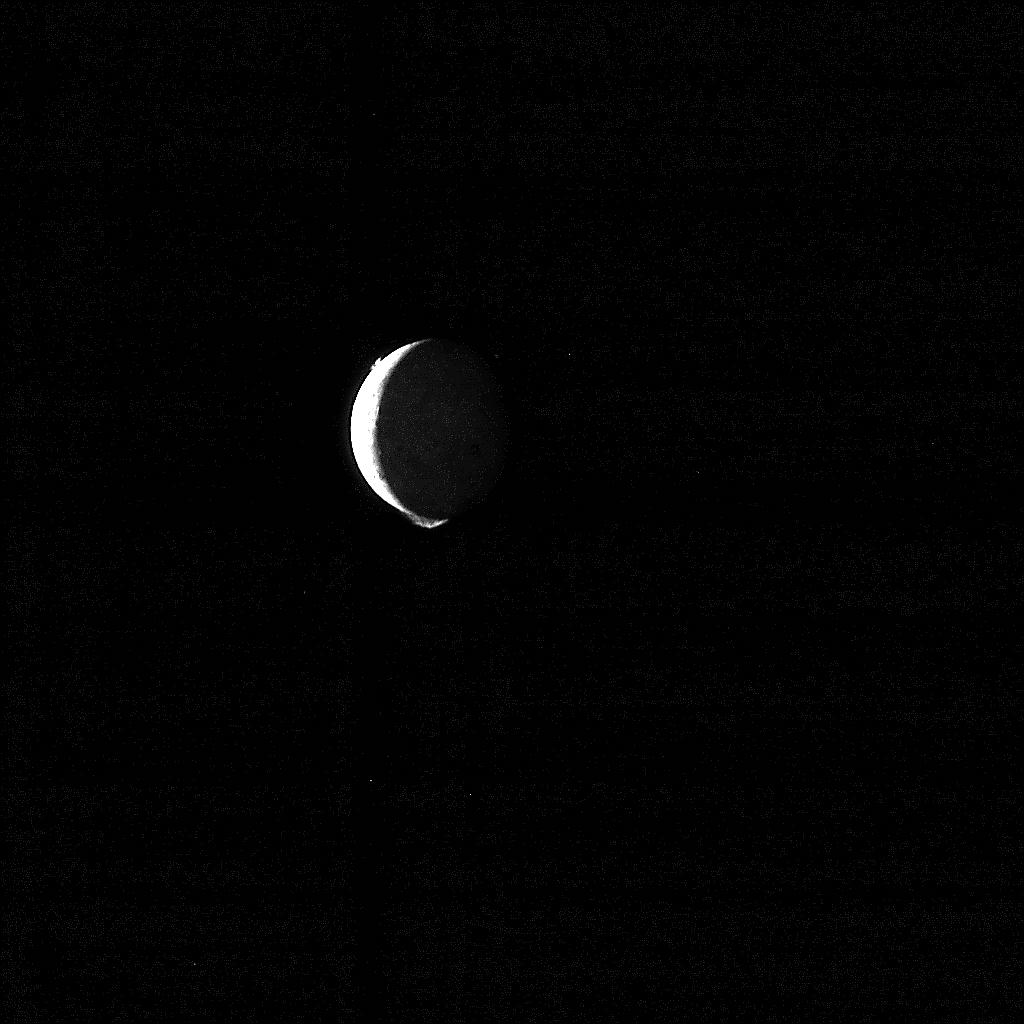plumes: (404, 512, 450, 529), (370, 356, 380, 370)
